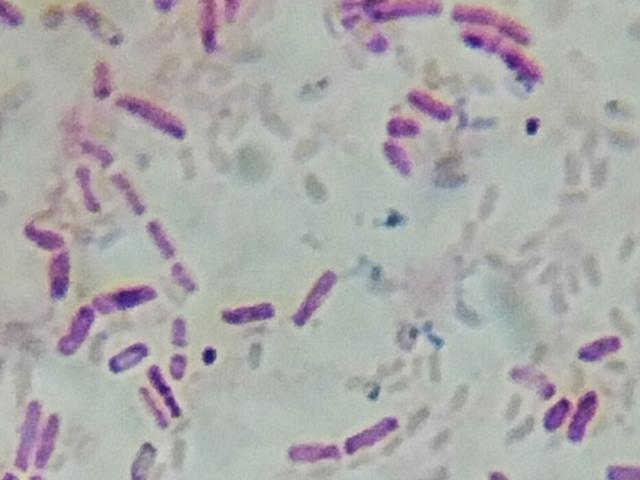E. coli: (453, 38, 535, 75), (118, 90, 179, 139), (453, 3, 530, 35), (296, 267, 336, 322), (142, 365, 178, 425), (95, 283, 154, 319), (345, 409, 394, 447), (409, 79, 455, 119), (331, 0, 441, 16), (62, 302, 94, 354), (291, 439, 352, 466), (13, 393, 36, 461), (111, 167, 145, 213), (73, 159, 100, 214), (46, 243, 74, 296), (223, 302, 281, 326), (515, 360, 551, 395), (379, 136, 414, 171), (145, 219, 174, 261), (28, 217, 63, 251), (109, 342, 145, 375), (38, 412, 58, 470), (576, 392, 600, 439), (88, 46, 112, 93), (385, 109, 419, 141), (173, 262, 201, 299), (196, 0, 219, 45), (583, 332, 618, 361), (546, 395, 568, 431), (172, 313, 195, 347), (0, 0, 25, 26), (222, 0, 246, 25), (173, 352, 193, 379)
